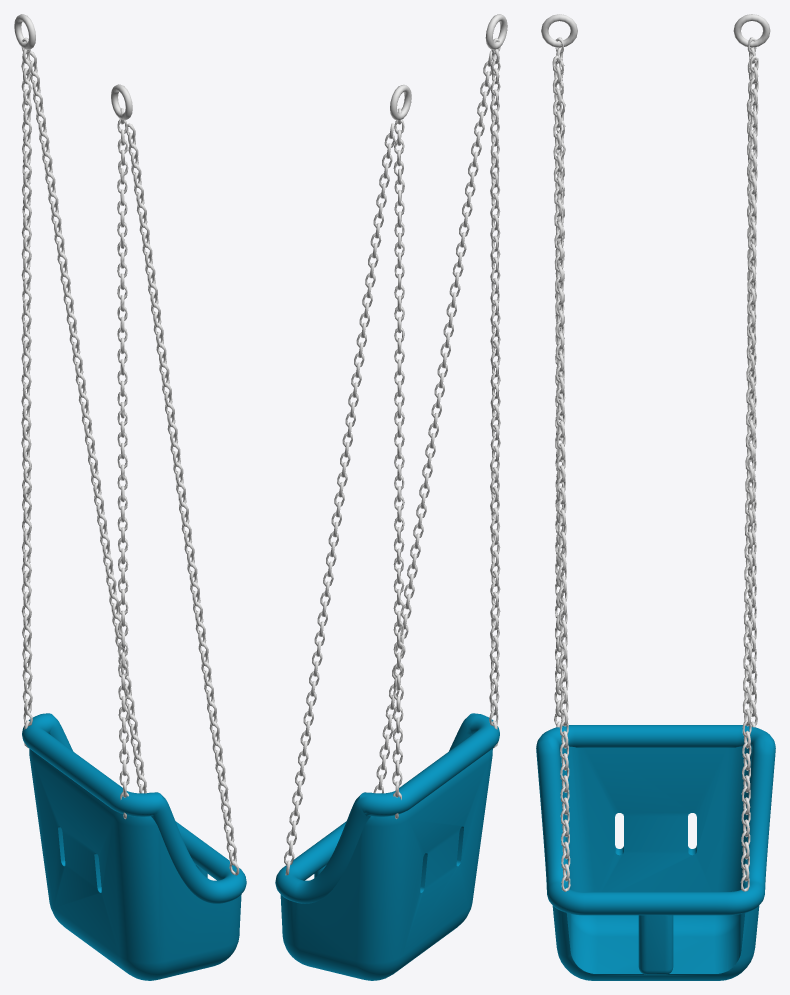
3 views of the same model, side by side, from view 1: azimuth 30°, elevation 25°; view 2: azimuth 150°, elevation 25°; view 3: azimuth 270°, elevation 25° (orthographic).
Parts seen in each view (by area): view 1: Plane039,_colorize_, Torus009, Torus; view 2: Plane039,_colorize_, Torus009, Torus; view 3: Plane039,_colorize_, Torus009, Torus.
Part boxes in pixels (x1,y1,x2,y2): Plane039,_colorize_: (22, 713, 246, 980); Torus009: (21, 37, 239, 875); Torus: (14, 14, 132, 120); Plane039,_colorize_: (275, 713, 499, 980); Torus009: (284, 38, 500, 875); Torus: (390, 14, 507, 120); Plane039,_colorize_: (536, 725, 775, 980); Torus009: (552, 37, 758, 891); Torus: (541, 14, 770, 47).
Bounding box in the file's own units: 0.285 × 1.8 × 0.4282.
